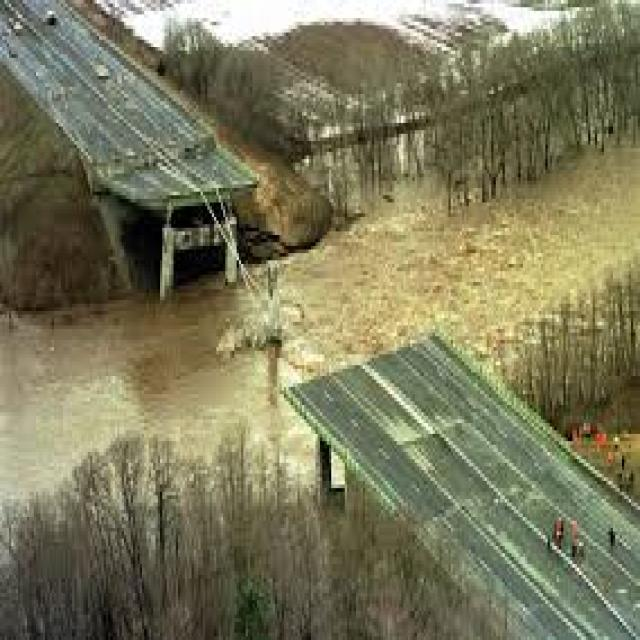bridge collapse: (28, 36, 607, 574)
